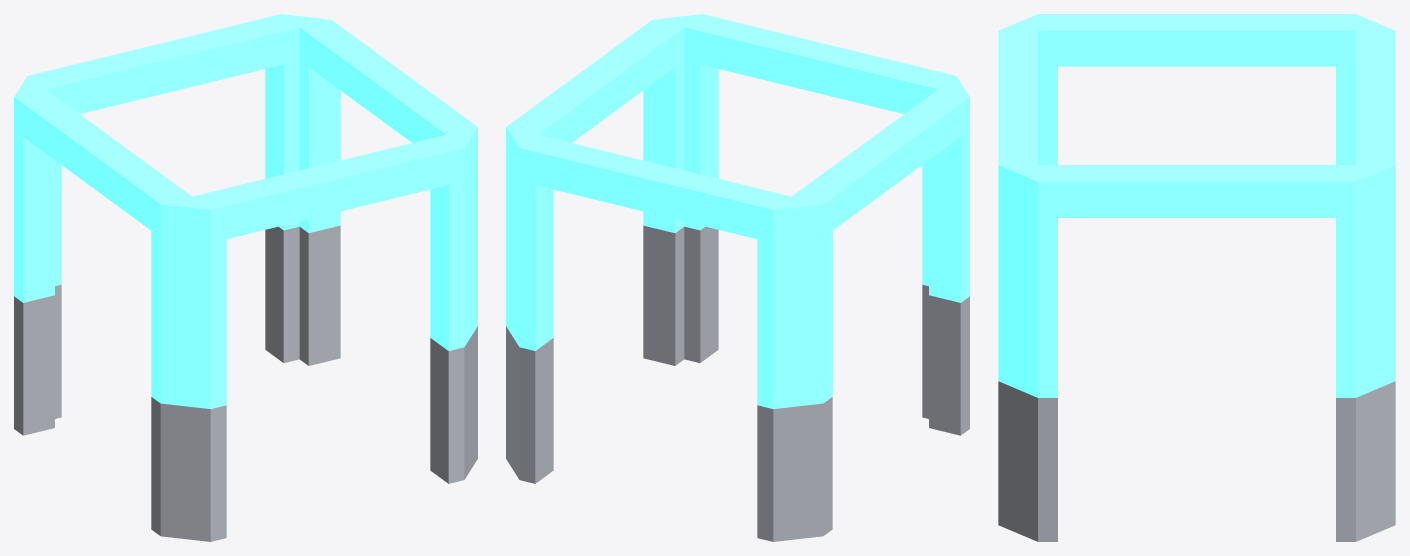
The model's file is structure.glb.
3 renders of one model, left to right at view 1: azimuth 30°, elevation 25°; view 2: azimuth 150°, elevation 25°; view 3: azimuth 270°, elevation 25°, orthographic. The views are drawn at different scales.
Visible parts, largest first — view 1: structure; view 2: structure; view 3: structure.
Boxes of the visible parts, x1,y1,x2,y2 form: structure: (14,14,477,541); structure: (506,14,969,541); structure: (998,14,1395,541).
Bounding box in the file's own units: 1 × 1 × 1.
